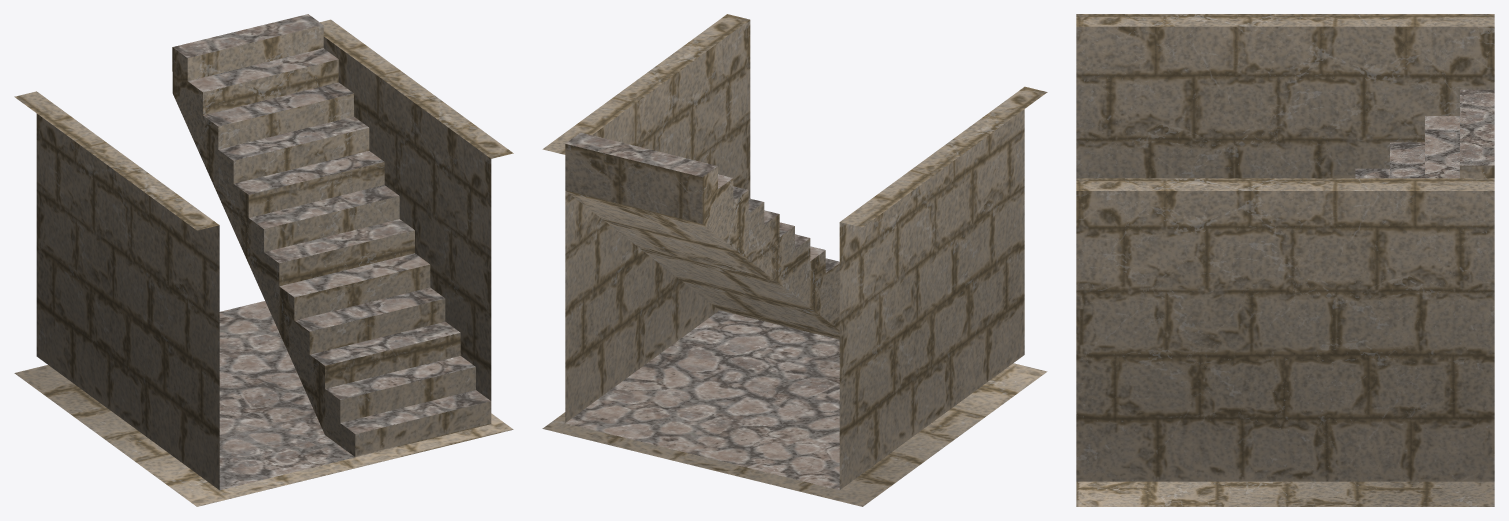
File: ModuleStairs.fbx
3 renders of one model, left to right at view 1: azimuth 30°, elevation 25°; view 2: azimuth 150°, elevation 25°; view 3: azimuth 270°, elevation 25°, orthographic. The views are drawn at different scales.
Visible parts, largest first — view 1: ModuleStairsStepsWalls, ModuleStairsStepsEdge, ModuleStairsStepsTile, ModuleStairsFloorTile, ModuleStairsFloorEdge; view 2: ModuleStairsStepsWalls, ModuleStairsFloorTile, ModuleStairsStepsEdge, ModuleStairsFloorEdge, ModuleStairsStepsTile; view 3: ModuleStairsStepsWalls, ModuleStairsFloorEdge, ModuleStairsStepsTile, ModuleStairsStepsEdge.
Part boxes in pixels (x1,y1,x2,y2): ModuleStairsStepsWalls: [14, 19, 513, 489]; ModuleStairsStepsEdge: [172, 25, 491, 457]; ModuleStairsStepsTile: [173, 14, 490, 434]; ModuleStairsFloorTile: [219, 301, 354, 490]; ModuleStairsFloorEdge: [14, 365, 513, 506]; ModuleStairsStepsWalls: [542, 14, 1047, 489]; ModuleStairsFloorTile: [565, 310, 839, 489]; ModuleStairsStepsEdge: [565, 144, 839, 339]; ModuleStairsFloorEdge: [542, 363, 1047, 506]; ModuleStairsStepsTile: [565, 132, 839, 272]; ModuleStairsStepsWalls: [1076, 14, 1494, 481]; ModuleStairsFloorEdge: [1076, 481, 1494, 506]; ModuleStairsStepsTile: [1355, 89, 1494, 178]; ModuleStairsStepsEdge: [1460, 165, 1494, 178].
Bounding box in the file's own units: 300 × 260 × 300.
